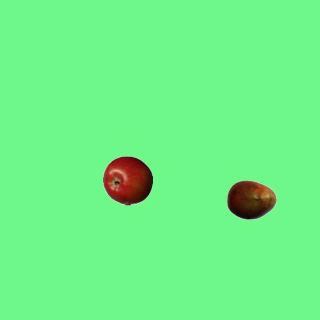Apple Braeburn: (102, 155, 152, 205)
Mango Red: (226, 174, 276, 224)
